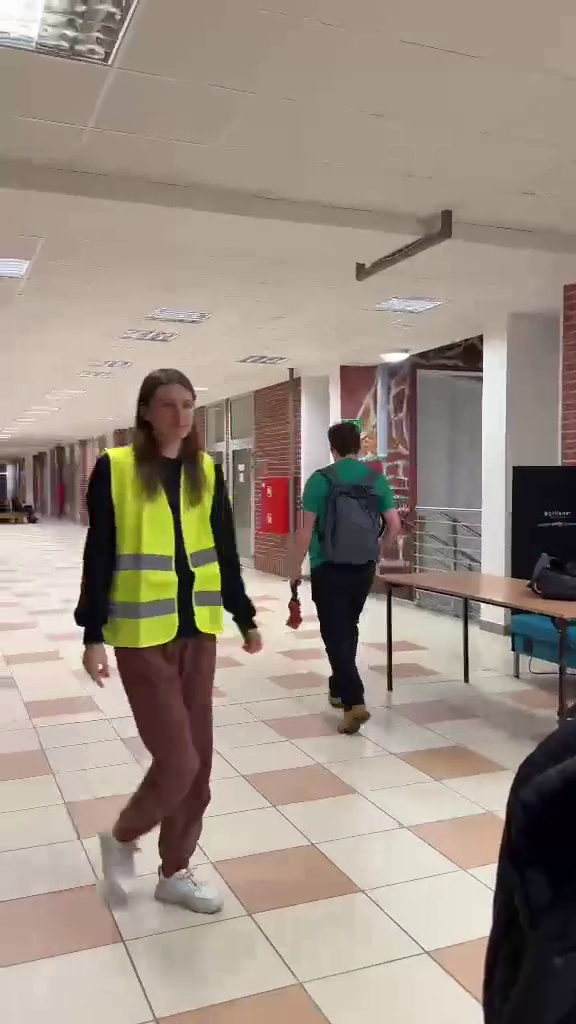no vest: (298, 414, 409, 751)
vest: (89, 362, 253, 907)
